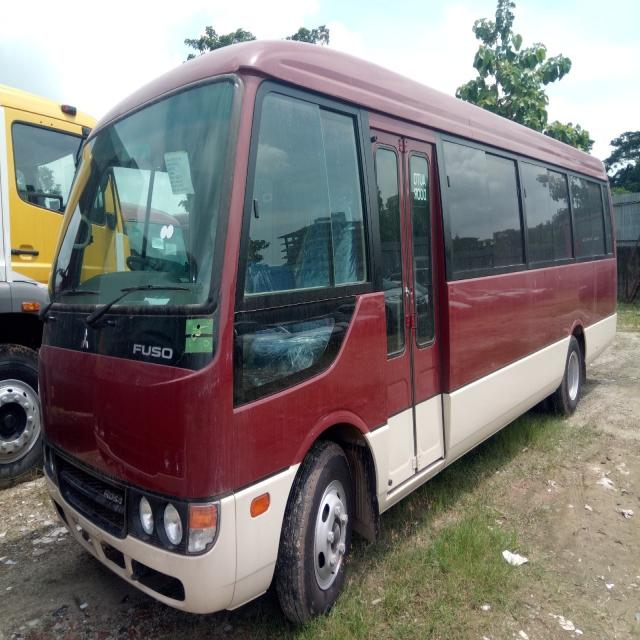bus: (43, 13, 640, 640)
